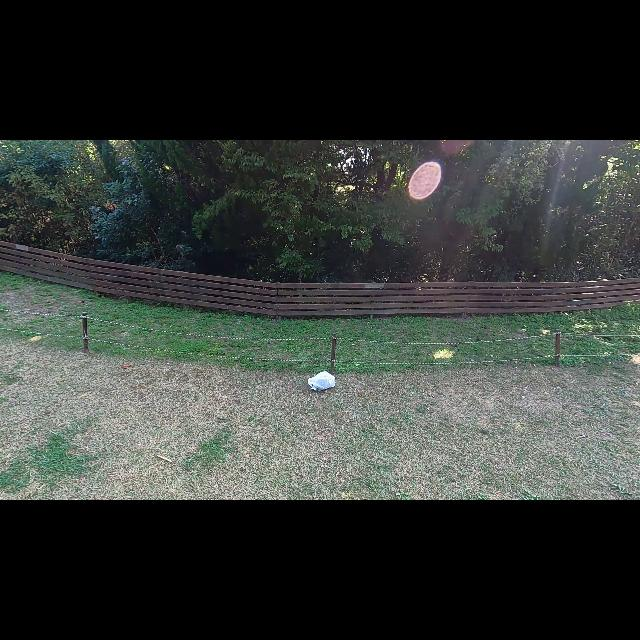trash: (306, 369, 336, 393)
